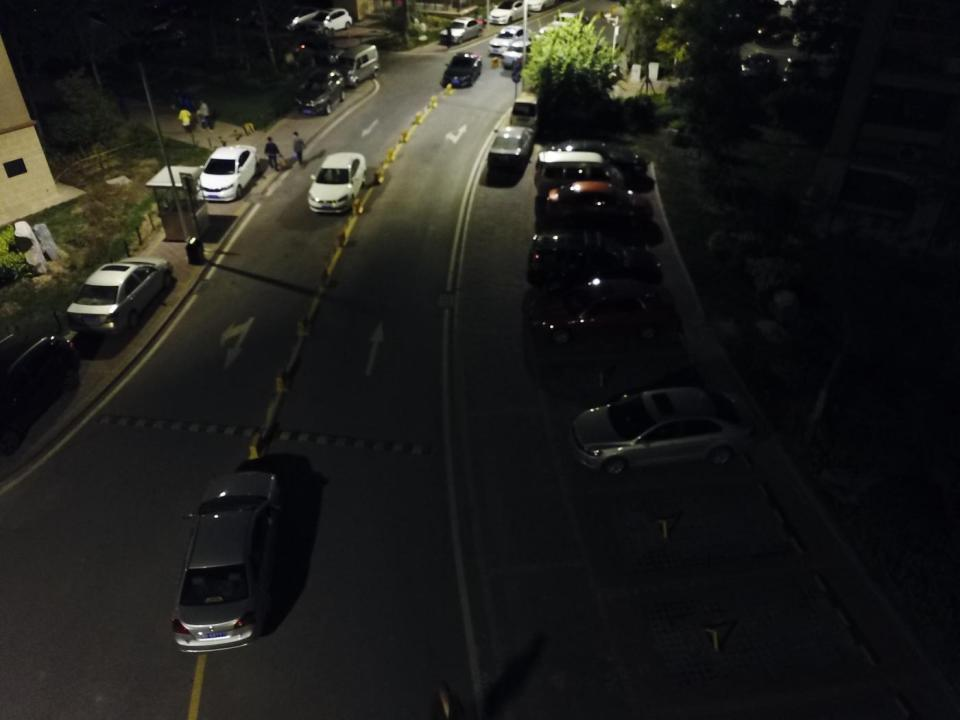car: (166, 470, 290, 655), (566, 385, 766, 475), (530, 279, 680, 348), (0, 334, 82, 458), (66, 254, 172, 341), (529, 228, 671, 288), (544, 180, 654, 229), (540, 137, 649, 183), (195, 137, 258, 205), (307, 151, 369, 215), (293, 68, 349, 121), (483, 123, 534, 169), (440, 52, 484, 89), (280, 4, 327, 34), (755, 11, 794, 47), (739, 49, 779, 84), (308, 5, 356, 34), (438, 15, 485, 44), (784, 53, 819, 90), (489, 26, 532, 55), (793, 15, 824, 53), (551, 9, 591, 38), (505, 40, 543, 70), (488, 0, 528, 24), (534, 25, 564, 54)
van: (532, 148, 625, 201), (330, 42, 380, 88), (512, 87, 542, 131)
